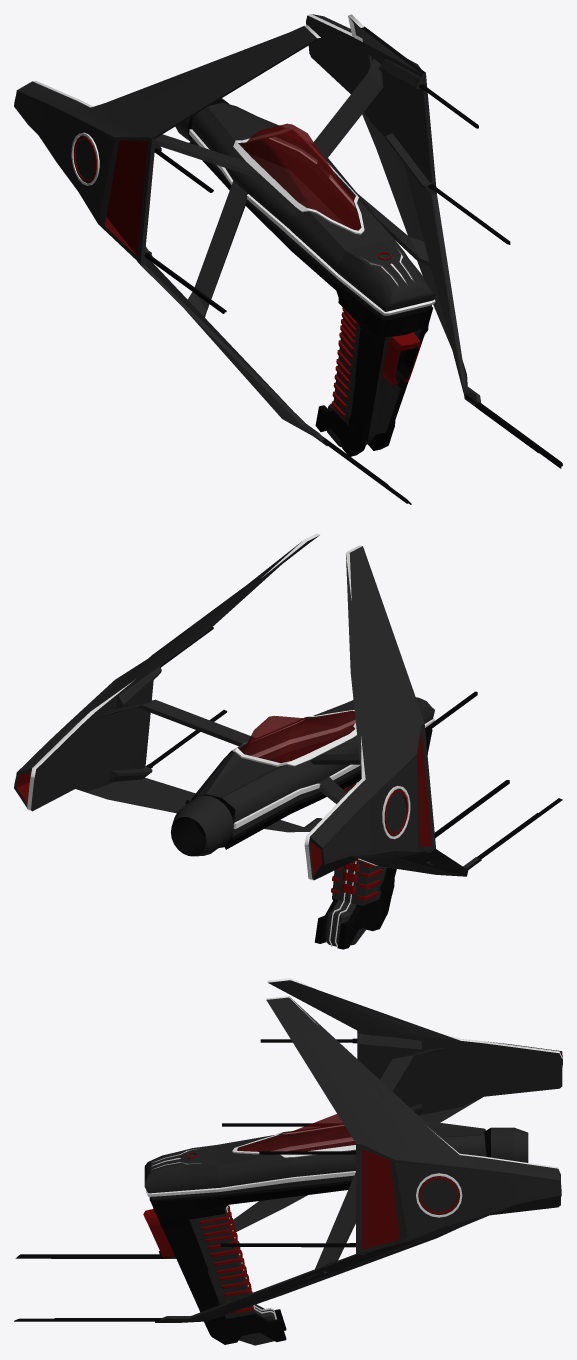
The model's file is RedRaven.fbx.
3 renders of one model, top to bottom at view 1: azimuth 30°, elevation 25°; view 2: azimuth 150°, elevation 25°; view 3: azimuth 270°, elevation 25°, orthographic. The views are drawn at different scales.
Visible parts, largest first — view 1: pCube5; view 2: pCube5; view 3: pCube5.
Part boxes in pixels (x1=…): pCube5: x1=14, y1=14, x2=562, y2=504; pCube5: x1=14, y1=533, x2=562, y2=949; pCube5: x1=14, y1=978, x2=562, y2=1345.
Bounding box in the file's own units: 11.02 × 13.53 × 18.92.
